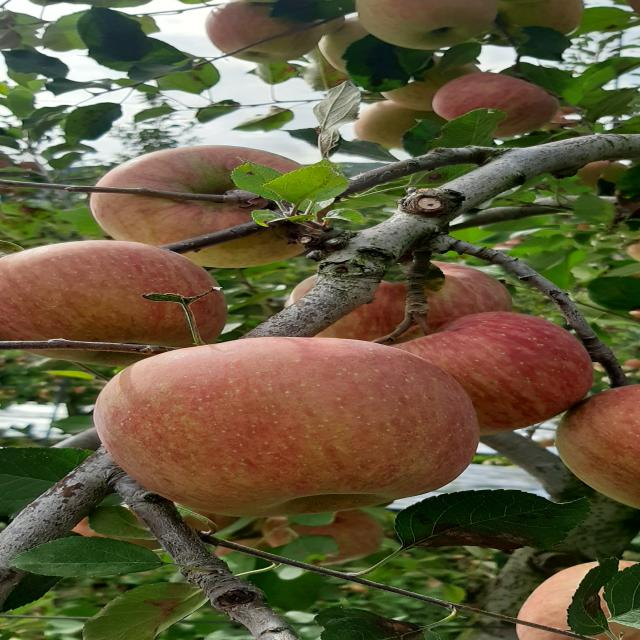fresh: (85, 333, 505, 525)
